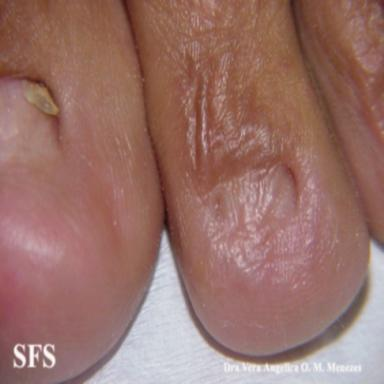Epidermolysis-Bullosa-Pruriginosa: (184, 12, 300, 287), (0, 78, 59, 168)
